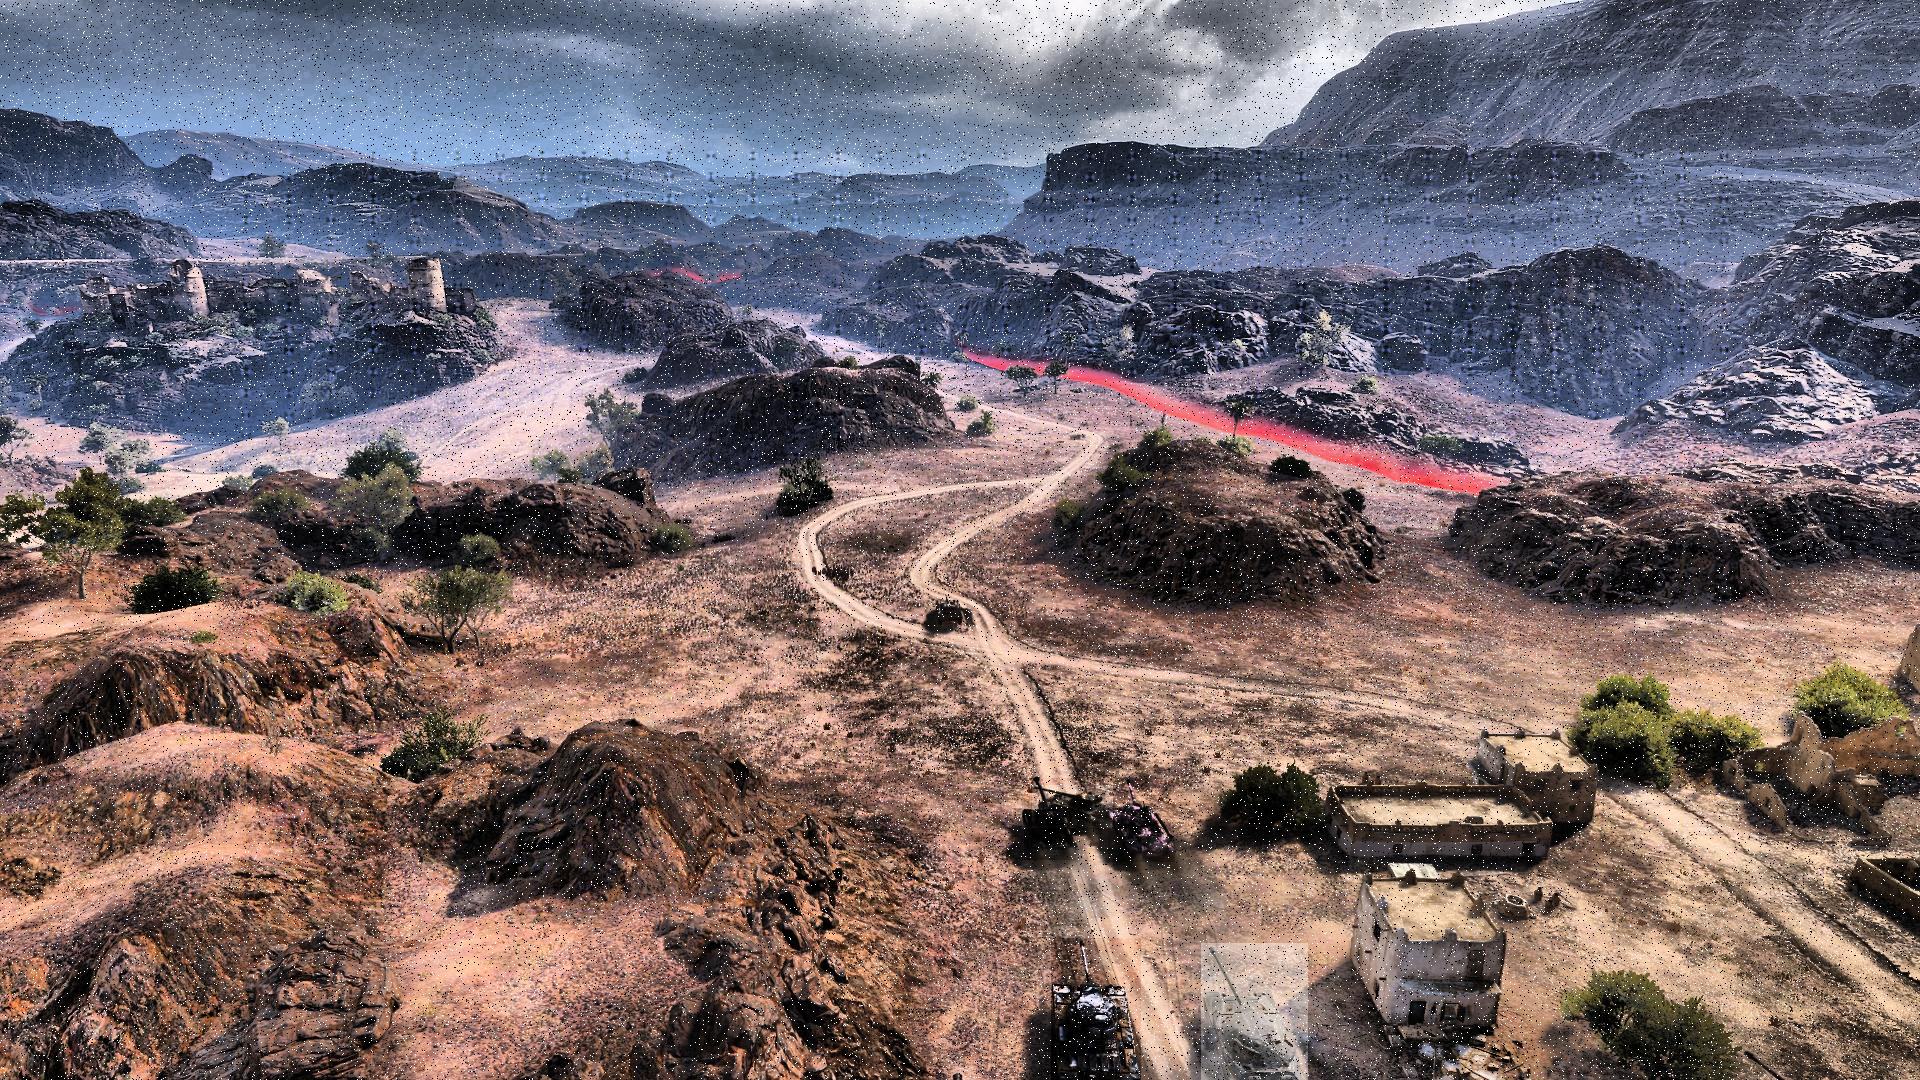military-vehicle: (1201, 943, 1308, 1080), (1051, 938, 1141, 1080), (1108, 778, 1175, 862), (1025, 778, 1077, 860), (1031, 785, 1113, 828), (934, 589, 968, 625)
